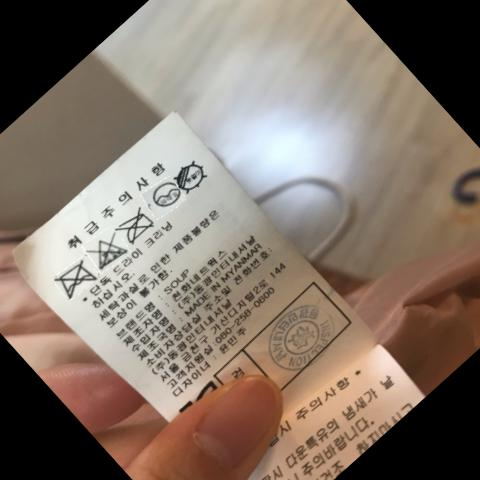DN_bleach: (96, 240, 127, 268)
DN_iron: (123, 209, 155, 242)
DN_wash: (58, 255, 95, 300)
dry_clean: (155, 181, 182, 209)
line_dry_in_shade: (176, 161, 210, 189)
